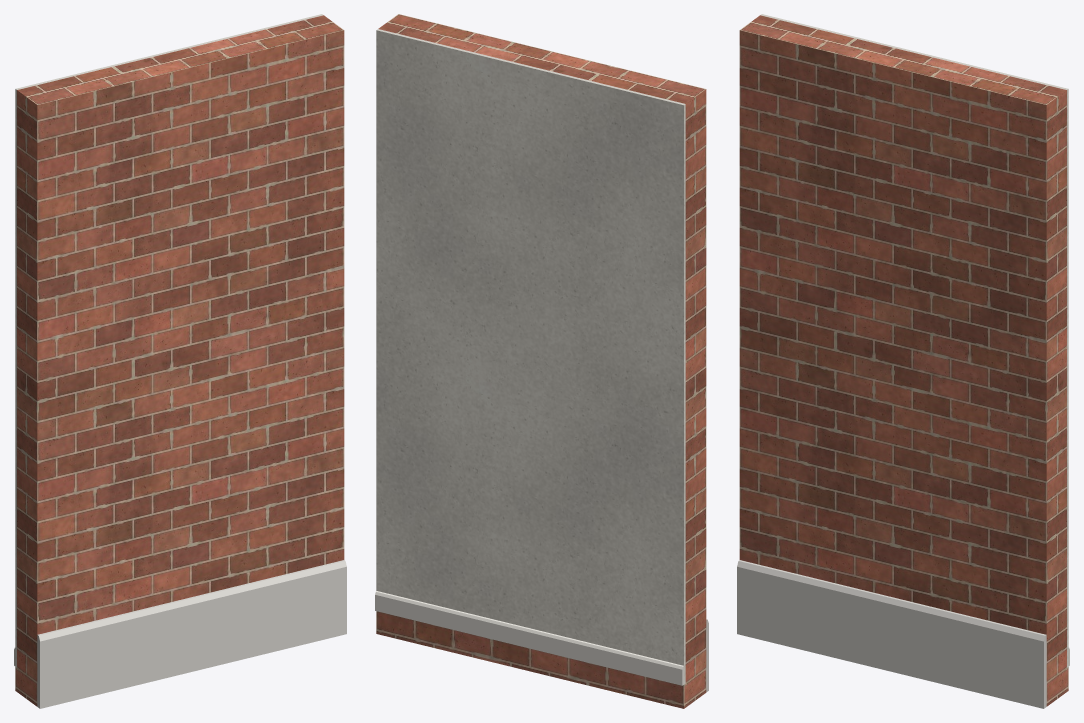
File: pg_plain.glb
3 renders of one model, left to right at view 1: azimuth 30°, elevation 25°; view 2: azimuth 150°, elevation 25°; view 3: azimuth 330°, elevation 25°, orthographic.
Parts seen in each view (by area): view 1: pg_plain_brick, pg_plain_cill, pg_plain_plaster; view 2: pg_plain_plaster, pg_plain_brick, pg_plain_trim; view 3: pg_plain_brick, pg_plain_cill, pg_plain_plaster.
Part boxes in pixels (bbox=[...]): pg_plain_brick: bbox=[15, 15, 344, 706]; pg_plain_cill: bbox=[37, 560, 346, 708]; pg_plain_plaster: bbox=[15, 14, 323, 667]; pg_plain_plaster: bbox=[376, 29, 685, 684]; pg_plain_brick: bbox=[376, 14, 706, 708]; pg_plain_trim: bbox=[375, 591, 683, 685]; pg_plain_brick: bbox=[739, 15, 1068, 706]; pg_plain_cill: bbox=[737, 560, 1046, 708]; pg_plain_plaster: bbox=[760, 14, 1068, 667].
Size of the model in its own units: 2 by 3.75 by 0.296.
4 materials, 2 textured.
